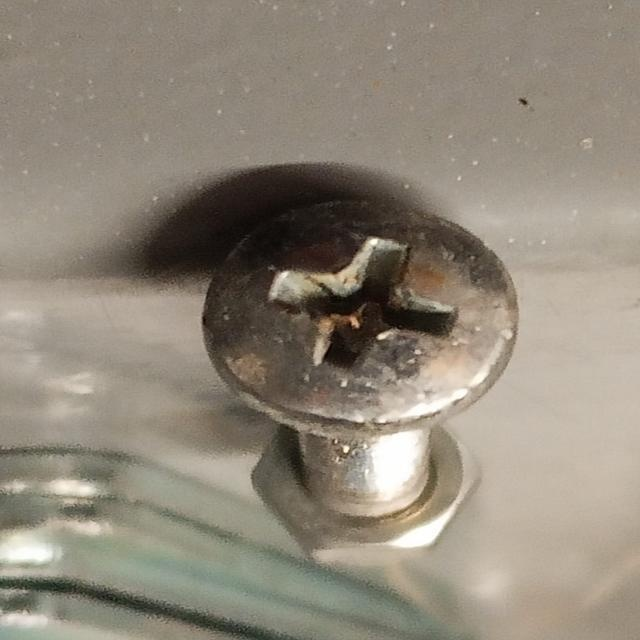phillips: (201, 198, 520, 428)
